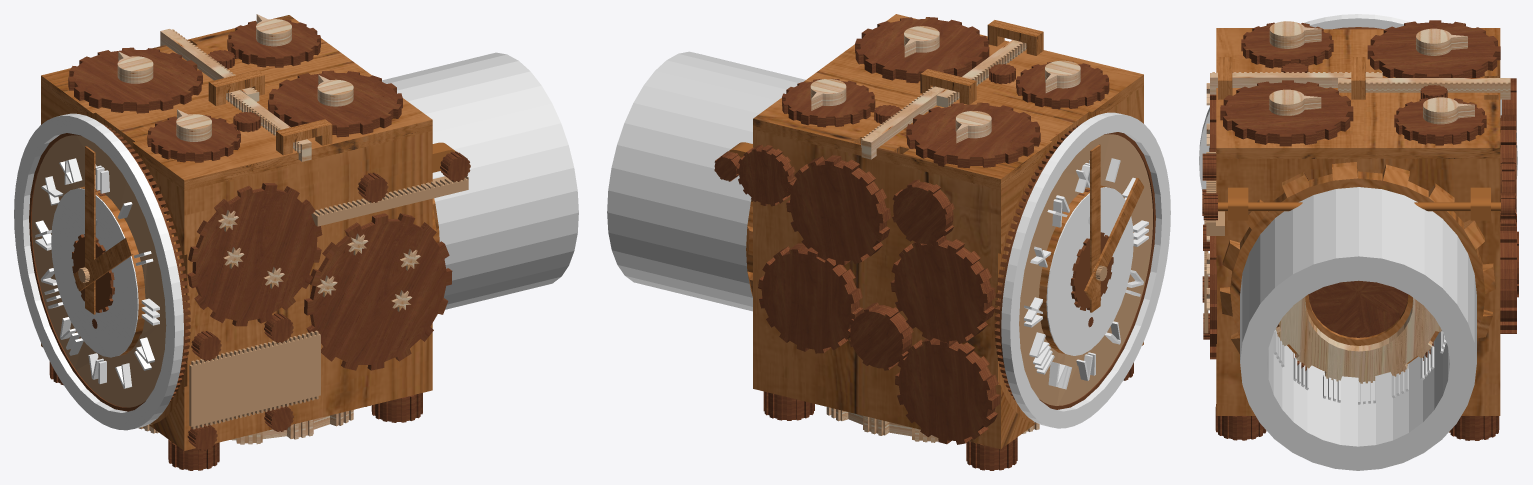
The picture shows the model from 3 angles, left to right: view 1: azimuth 30°, elevation 25°; view 2: azimuth 150°, elevation 25°; view 3: azimuth 270°, elevation 25°; orthographic projection.
Visible parts, largest first — view 1: box, Цилиндр.019, Цилиндр.049, key_right_1, key_right_2, Куб.007, Цилиндр.053, Цилиндр.054, Цилиндр.055, Цилиндр.056, arrow_min, Куб.003 (+17 smaller); view 2: box, Цилиндр.019, Цилиндр.049, Куб.007, Цилиндр.036, Цилиндр.038, Цилиндр.040, Цилиндр.037, Цилиндр.053, Цилиндр.054, Цилиндр.039, Цилиндр.041 (+17 smaller); view 3: Цилиндр.019, box, Куб.007, Цилиндр.054, Цилиндр.053, Цилиндр.055, Цилиндр.056, Куб.003, Цилиндр.037, Цилиндр.049, Куб.010, Цилиндр.057 (+21 smaller).
Boxes of the visible parts, box(x1,y1,x2,y2) form: box: box(29, 86, 468, 450); Цилиндр.019: box(382, 52, 578, 309); Цилиндр.049: box(14, 113, 183, 430); key_right_1: box(304, 213, 452, 370); key_right_2: box(187, 183, 322, 326); Куб.007: box(41, 15, 432, 190); Цилиндр.053: box(68, 47, 202, 113); Цилиндр.054: box(268, 70, 402, 137); Цилиндр.055: box(227, 19, 320, 67); Цилиндр.056: box(147, 115, 240, 162); arrow_min: box(85, 146, 95, 314); Куб.003: box(160, 29, 259, 101); box: box(729, 85, 1155, 449); Цилиндр.019: box(607, 51, 805, 311); Цилиндр.049: box(1001, 112, 1170, 428); Куб.007: box(753, 14, 1143, 189); Цилиндр.036: box(786, 155, 890, 265); Цилиндр.038: box(895, 338, 1000, 444); Цилиндр.040: box(890, 235, 995, 344); Цилиндр.037: box(758, 243, 863, 353); Цилиндр.053: box(906, 102, 1040, 168); Цилиндр.054: box(855, 17, 989, 83); Цилиндр.039: box(849, 302, 913, 370); Цилиндр.041: box(892, 179, 954, 246); Цилиндр.019: box(1240, 187, 1476, 470); box: box(1204, 27, 1500, 415); Куб.007: box(1216, 28, 1500, 158); Цилиндр.054: box(1220, 80, 1353, 146); Цилиндр.053: box(1367, 20, 1500, 77); Цилиндр.055: box(1394, 97, 1486, 145); Цилиндр.056: box(1241, 22, 1333, 68); Куб.003: box(1338, 78, 1510, 99); Цилиндр.037: box(1500, 222, 1516, 333); Цилиндр.049: box(1199, 14, 1517, 190); Куб.010: box(1210, 72, 1382, 94); Цилиндр.057: box(1269, 21, 1321, 48).
Size of the model in its own units: 3.52 by 2.44 by 2.25.
Materials: 50 (49 with a texture image).
